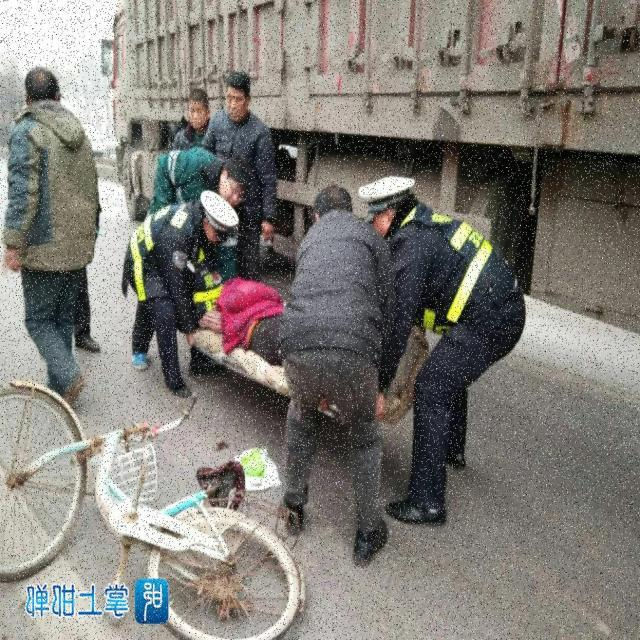fall: (200, 278, 377, 384)
